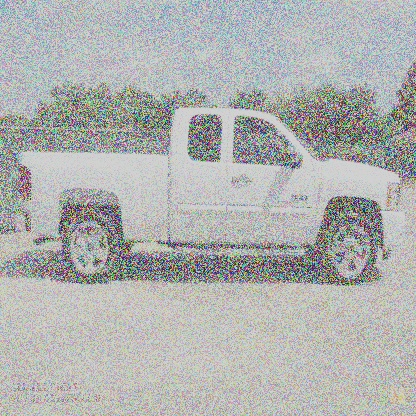Vehicle: (12, 104, 405, 288)
